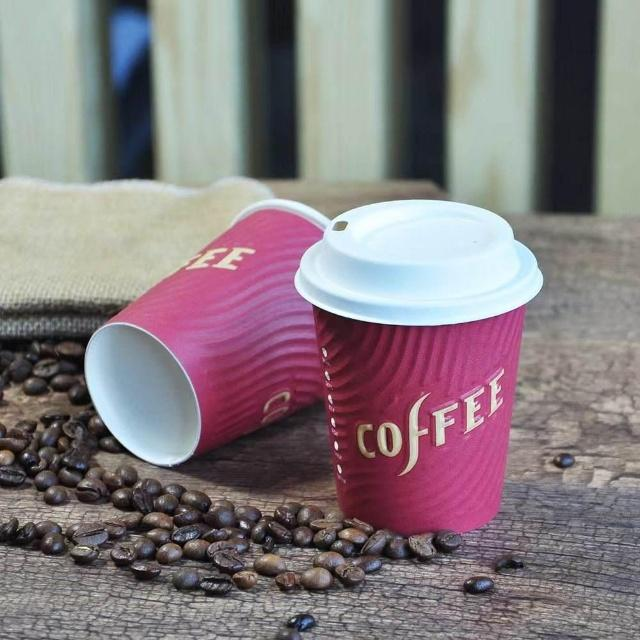Cup: (281, 191, 584, 564), (82, 152, 374, 474)
